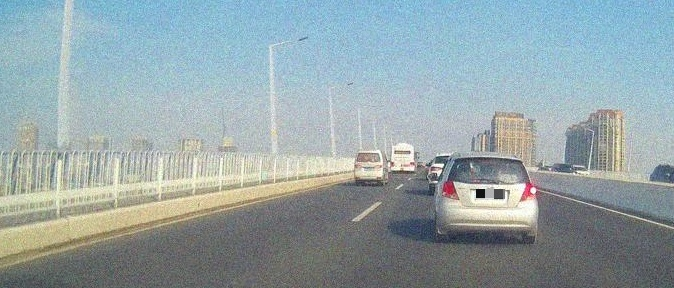L_light: (442, 180, 460, 200), (355, 164, 361, 168), (391, 162, 395, 165)
R_light: (519, 182, 537, 201), (376, 164, 382, 168), (410, 162, 415, 165)
T_light: (482, 156, 495, 160), (366, 153, 372, 155), (400, 146, 404, 148)
day-no: (354, 150, 383, 185), (391, 143, 415, 173)
day-right: (436, 151, 538, 242)
plate_1: (476, 189, 505, 199)
